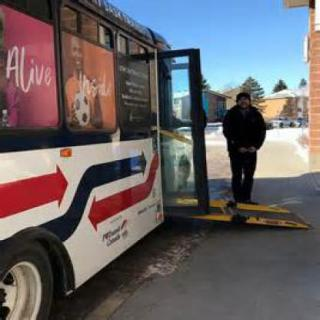Normal_vehicle: (1, 5, 216, 302)
